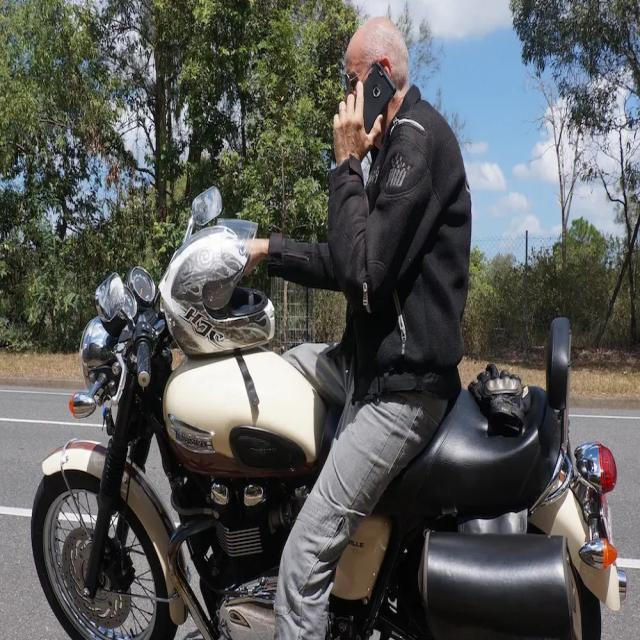USING_MOBILE: (331, 51, 399, 314)
